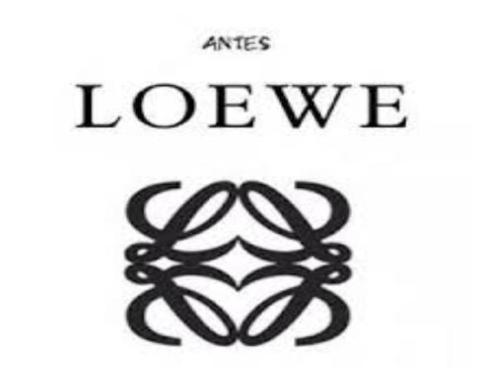LOEWE: (57, 69, 421, 356)
